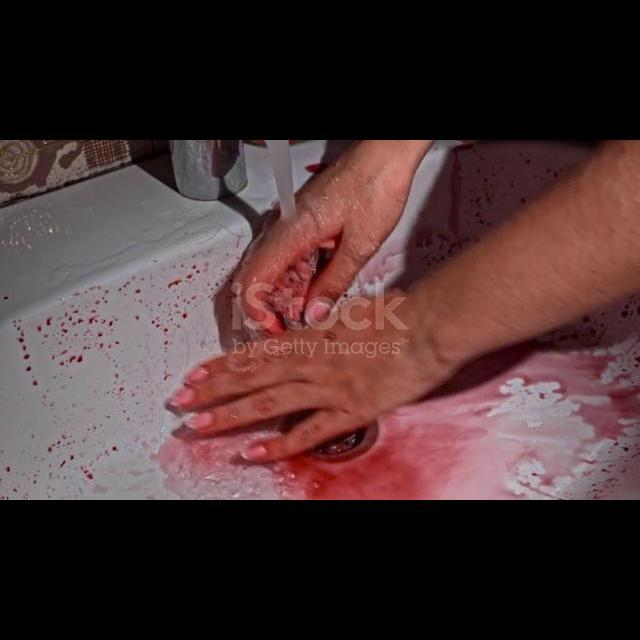blood: (0, 237, 244, 498), (394, 141, 594, 288), (271, 430, 462, 500)
